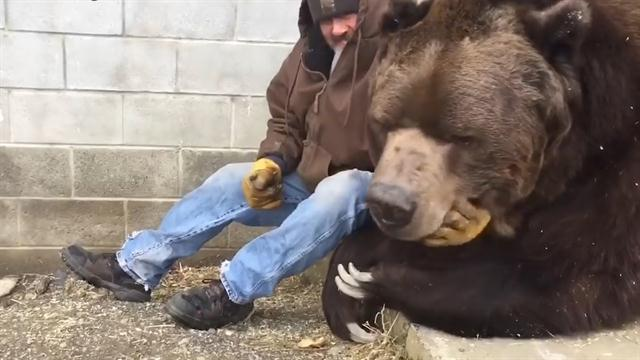bear: (362, 1, 604, 251)
